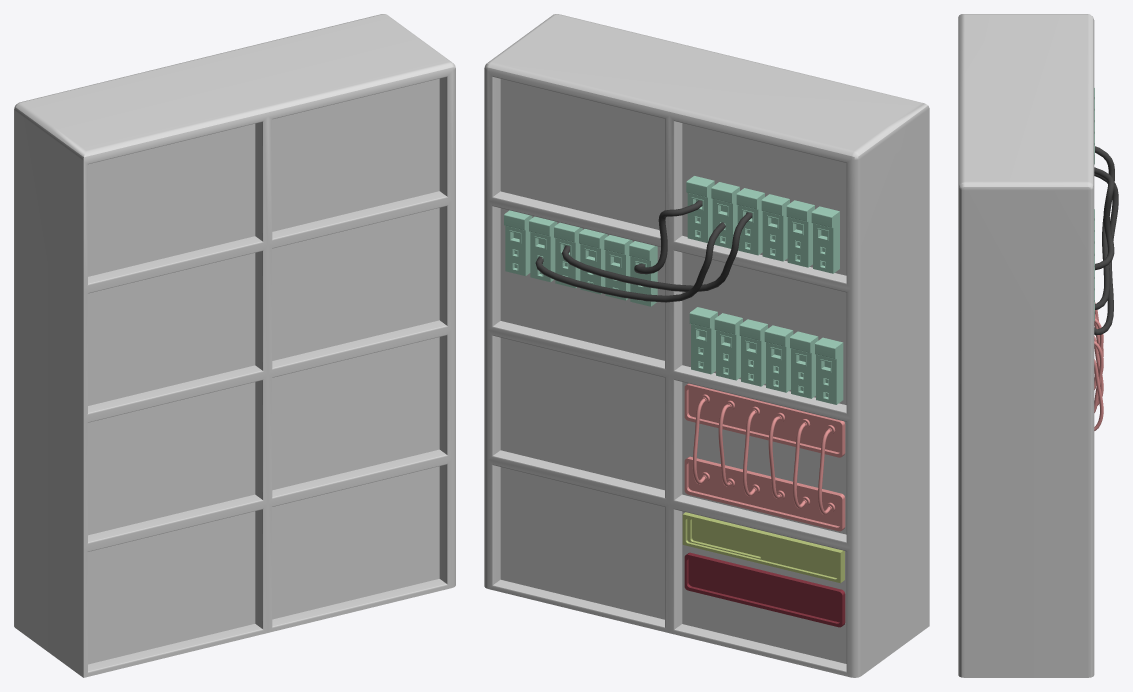
File: Server.fbx
The picture shows the model from 3 angles, left to right: view 1: azimuth 30°, elevation 25°; view 2: azimuth 150°, elevation 25°; view 3: azimuth 270°, elevation 25°; orthographic projection. The views are drawn at different scales.
Visible parts, largest first — view 1: Server_Main; view 2: Server_Main, pCube5, pCube4, pCube11, pCube12, Server_Connect_6 (×3), Server_Connect_1 (×3), Server_Connect_3 (×3), Server_Connect_2 (×3), Server_Connect_5 (×3), Server_Connect_4 (×3), Server_line_3 (+2 smaller); view 3: Server_Main, Server_line_2, Server_line_3, Server_line_1, Server_Line_6.
Part boxes in pixels (x1,y1,x2,y2): Server_Main: [14, 14, 455, 677]; Server_Main: [484, 14, 929, 677]; pCube5: [684, 552, 845, 627]; pCube4: [682, 512, 844, 583]; pCube11: [684, 456, 845, 531]; pCube12: [684, 383, 845, 457]; Server_Connect_6 (×3): [504, 176, 717, 374]; Server_Connect_1 (×3): [629, 206, 843, 404]; Server_Connect_3 (×3): [579, 194, 793, 392]; Server_Connect_2 (×3): [604, 200, 818, 398]; Server_Connect_5 (×3): [529, 182, 742, 380]; Server_Connect_4 (×3): [554, 188, 767, 386]; Server_line_3: [535, 222, 725, 302]; Server_Main: [958, 14, 1094, 677]; Server_line_2: [1094, 167, 1114, 270]; Server_line_3: [1094, 174, 1118, 335]; Server_line_1: [1095, 146, 1114, 309]; Server_Line_6: [1094, 359, 1103, 430].
Bounding box in the file's own units: 1.5 × 2 × 0.5895.
